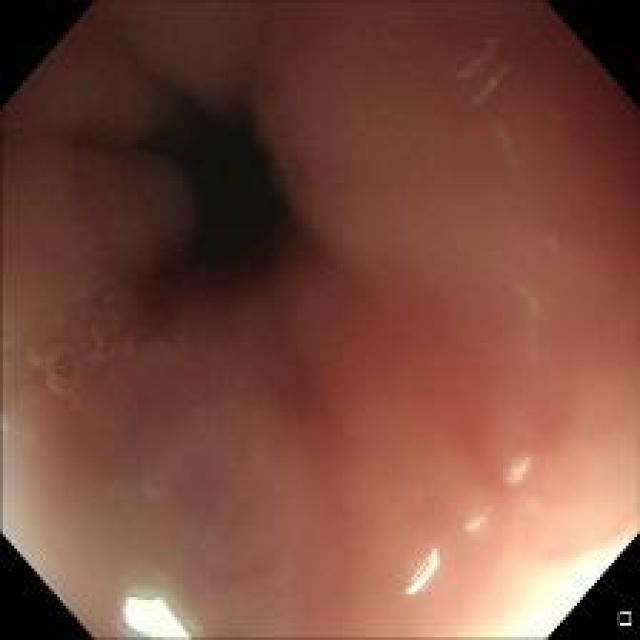bubbles: (41, 340, 80, 396)
color misalignment: (462, 31, 511, 104), (489, 114, 524, 175), (505, 275, 544, 319)
contrast: (98, 74, 301, 314)
saturation: (471, 538, 626, 631)
specularity: (121, 590, 185, 635), (404, 546, 441, 598), (504, 455, 531, 486), (466, 515, 488, 531)
